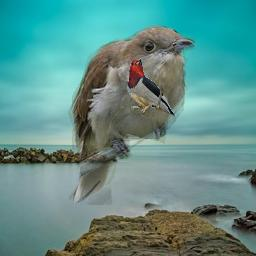Cuckoo: (68, 24, 195, 205)
Woodpecker: (125, 55, 179, 123)
